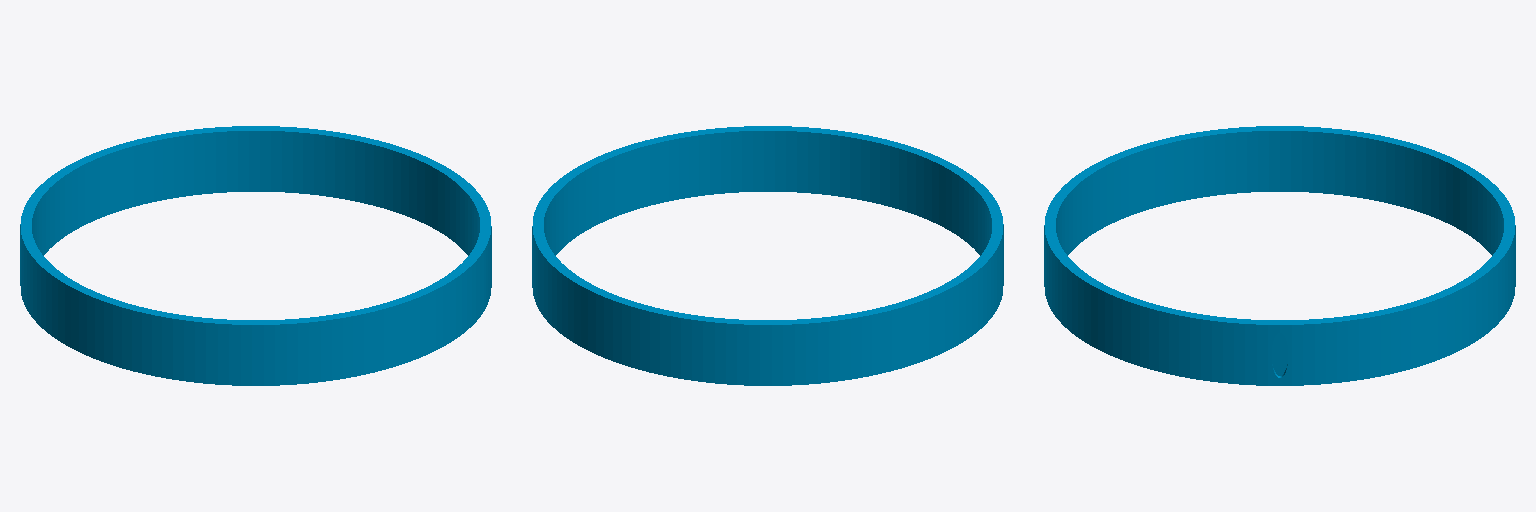
robot.urdf — spacecraft:
<?xml version="1.0" ?>
<robot name="spacecraft">

  <material name="industrial-blue">
    <color rgba="0.11372549019607843 0.34509803921568627 0.6549019607843137 1" />
  </material>

  <material name="arches-blue">
    <color rgba="0.0 0.6235294117647059 0.8313725490196079 1" />
  </material>

  <material name = "heritage-orange">
    <color rgba = "0.96078431 0.50980392 0.11764706 1" />
  </material>

  <link name="world"/>

  <link name="station" concave="yes">
    <visual>
      <origin rpy="0 0 0" xyz="0 0 0"/>
      <geometry>
  			<mesh filename="station.stl" scale="1.0 1.0 3.0"/>
      </geometry>
      <material name = "arches-blue"/>
    </visual>
    <collision concave="yes">
      <origin rpy="0 0 0" xyz="0 0 0"/>
      <geometry>
  			<mesh filename="station.stl" scale="1.0 1.0 3.0"/>
      </geometry>
    </collision>
    <inertial>
      <origin rpy="0 0 0" xyz="0 0 0"/>
      <mass value="1000.0"/>
      <inertia ixx="1000.0" ixy="0" ixz="0" iyy="1000.0" iyz="0" izz="1000.0" />
    </inertial>
  </link>

  <link name="marker1">
    <visual>
      <geometry>
  			<mesh filename="disc.stl" scale="2.0 2.0 0.5"/>
      </geometry>
      <material name = "arches-blue"/>
    </visual>
    <collision>
      <geometry>
  			<mesh filename="disc.stl" scale="2.0 2.0 0.5"/>
      </geometry>
    </collision>
    <inertial>
      <mass value="1.0"/>
      <inertia ixx="0.0" ixy="0" ixz="0" iyy="0.0" iyz="0" izz="0.0" />
    </inertial>
  </link>

  <link name="marker2">
    <visual>
      <geometry>
  			<mesh filename="disc.stl" scale="2.0 2.0 0.5"/>
      </geometry>
      <material name = "arches-blue"/>
    </visual>
    <collision>
      <geometry>
  			<mesh filename="disc.stl" scale="2.0 2.0 0.5"/>
      </geometry>
    </collision>
    <inertial>
      <mass value="1.0"/>
      <inertia ixx="0.0" ixy="0" ixz="0" iyy="0.0" iyz="0" izz="0.0" />
    </inertial>
  </link>

  <link name="marker3">
    <visual>
      <geometry>
  			<mesh filename="disc.stl" scale="2.0 2.0 0.5"/>
      </geometry>
      <material name = "arches-blue"/>
    </visual>
    <collision>
      <geometry>
  			<mesh filename="disc.stl" scale="2.0 2.0 0.5"/>
      </geometry>
    </collision>
    <inertial>
      <mass value="1.0"/>
      <inertia ixx="0.0" ixy="0" ixz="0" iyy="0.0" iyz="0" izz="0.0" />
    </inertial>
  </link>

  <link name="marker4">
    <visual>
      <geometry>
  			<mesh filename="disc.stl" scale="2.0 2.0 0.5"/>
      </geometry>
      <material name = "arches-blue"/>
    </visual>
    <collision>
      <geometry>
  			<mesh filename="disc.stl" scale="2.0 2.0 0.5"/>
      </geometry>
    </collision>
    <inertial>
      <mass value="1.0"/>
      <inertia ixx="0.0" ixy="0" ixz="0" iyy="0.0" iyz="0" izz="0.0" />
    </inertial>
  </link>

  <joint name="world_to_station" type="continuous">
		<parent link = "world" />
		<child link = "station" />
		<origin xyz = "0 0 0" />
		<axis xyz = "0 0 1" />
		<limit effort="1000" velocity="1000"/>
	</joint>

  <joint name="station_to_marker1" type="fixed">
		<parent link="station" />
		<child link="marker1" />
		<origin xyz="0 -20 -3.25" />
	</joint>

  <joint name="station_to_marker2" type="fixed">
		<parent link="station" />
		<child link="marker2" />
		<origin xyz="20 0 -3.25" />
	</joint>

  <joint name="station_to_marker3" type="fixed">
		<parent link="station" />
		<child link="marker3" />
		<origin xyz="0 20 -3.25" />
	</joint>

  <joint name="station_to_marker4" type="fixed">
		<parent link="station" />
		<child link="marker4" />
		<origin xyz="-20 0 -3.25" />
	</joint>

  <link name="bumplink40">
    <visual>
      <geometry>
        <mesh filename="disc.stl" scale="3.000 3.000 0.030"/>
      </geometry>
      <material name="heritage-orange"/>
    </visual>
    <collision>
      <geometry>
        <mesh filename="disc.stl" scale="3.000 3.000 0.030"/>
      </geometry>
    </collision>
    <inertial>
      <mass value="1.0"/>
      <inertia ixx="0" ixy="0" ixz="0" iyy="0" iyz="0" izz="0"/>
    </inertial>
  </link>
  <joint name="bumpjoint40" type="fixed">
    <parent link="station"/>
    <child link="bumplink40"/>
    <origin xyz="0.000 -20.000 0.000" rpy="1.571 0.000 0.000"/>
  </joint>
</robot>

--- Render facts (derived) ---
Views: 3 orthographic renders of the robot side by side, from view 1: azimuth 30°, elevation 25°; view 2: azimuth 150°, elevation 25°; view 3: azimuth 270°, elevation 25°.
Model spacecraft with 7 links and 6 joints (1 continuous, 5 fixed), rooted at world, posed all joints at 0.
Visible links, largest first — view 1: station; view 2: station; view 3: station.
Link boxes in pixels (x1=…): station: x1=20, y1=126, x2=491, y2=385; station: x1=532, y1=126, x2=1003, y2=385; station: x1=1044, y1=126, x2=1515, y2=385.
Bounding box of the posed robot: 42 × 42 × 6 m (x, y, z).
Meshes: 2 distinct files referenced, 1 mesh visuals loaded (1 binary STL); not drawn: 5 (reference not matched to a file when rendering).